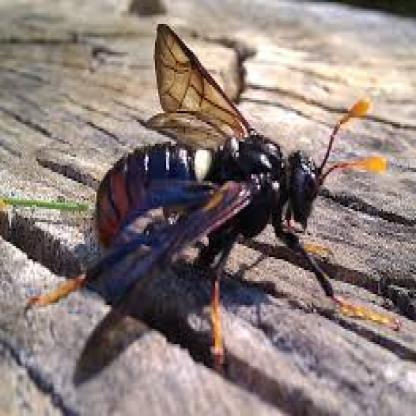sawfly: (27, 23, 403, 370)
